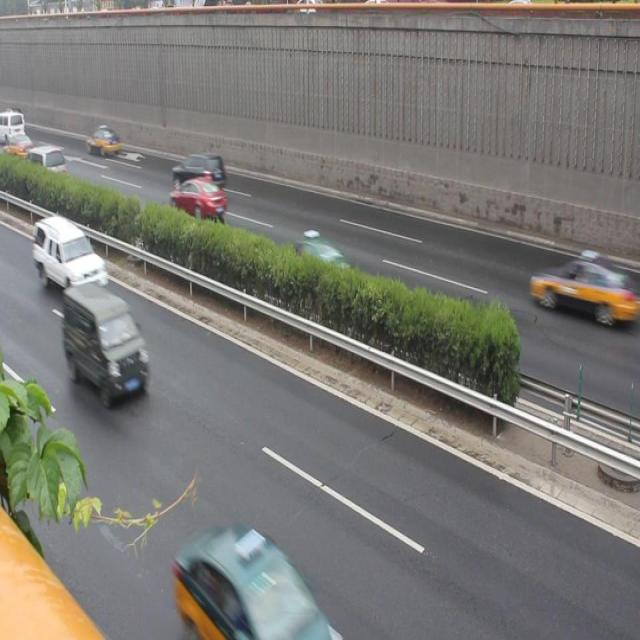car: (170, 516, 337, 640), (526, 246, 627, 332), (31, 208, 113, 302), (283, 224, 349, 286), (169, 171, 226, 224), (172, 147, 226, 191)
truck: (59, 277, 150, 399)
